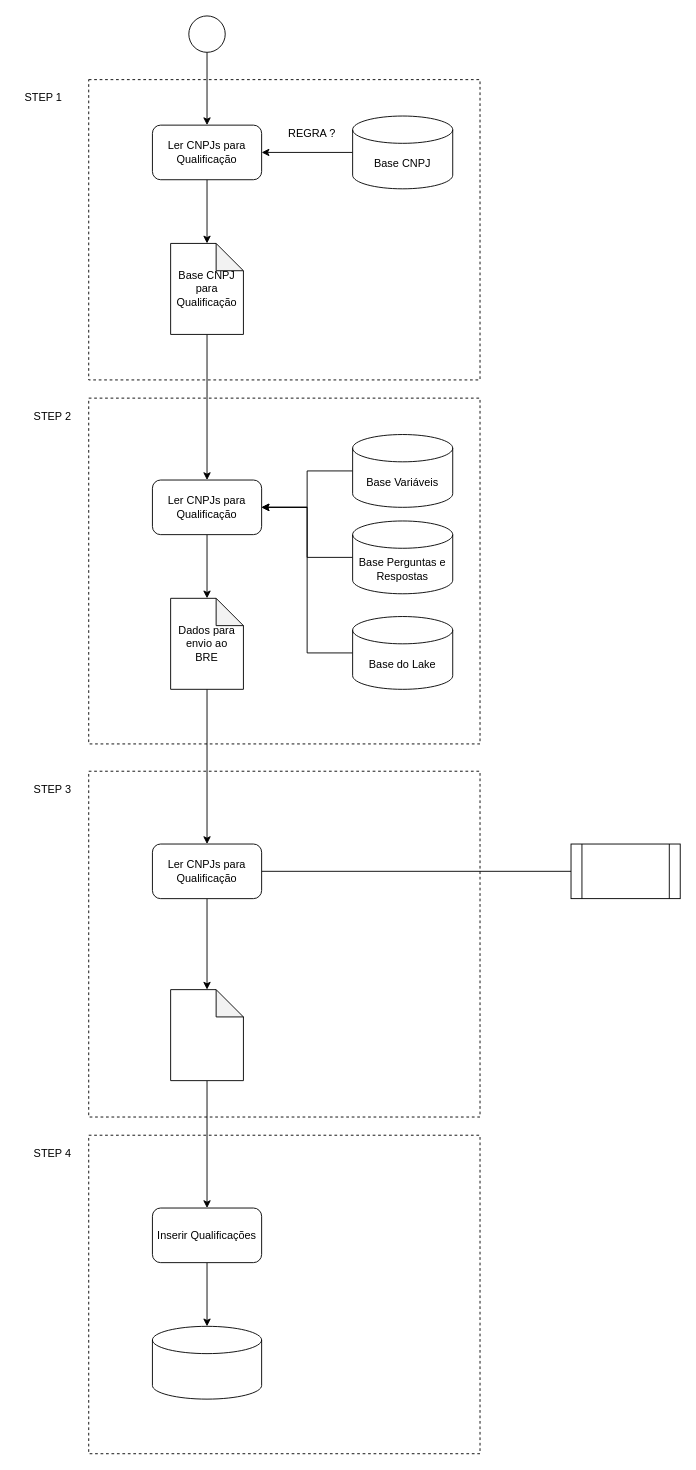
This 696x1470 diagram has some shape labels left out. The box of each missing label's shape, as (x1, y1, x2, y2) in pixels:
Base Qualificações: (152, 1325, 262, 1399)
BRE: (570, 843, 680, 899)
CNPJ Qualificados: (170, 989, 243, 1081)
